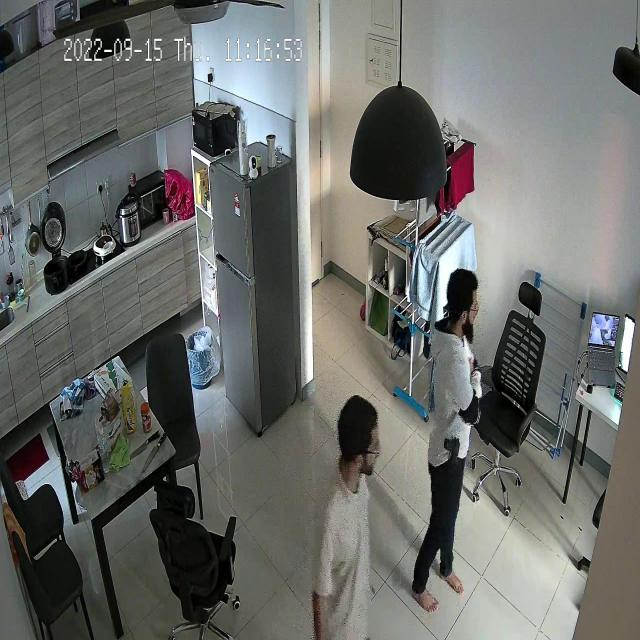Gun: (434, 434, 467, 474)
